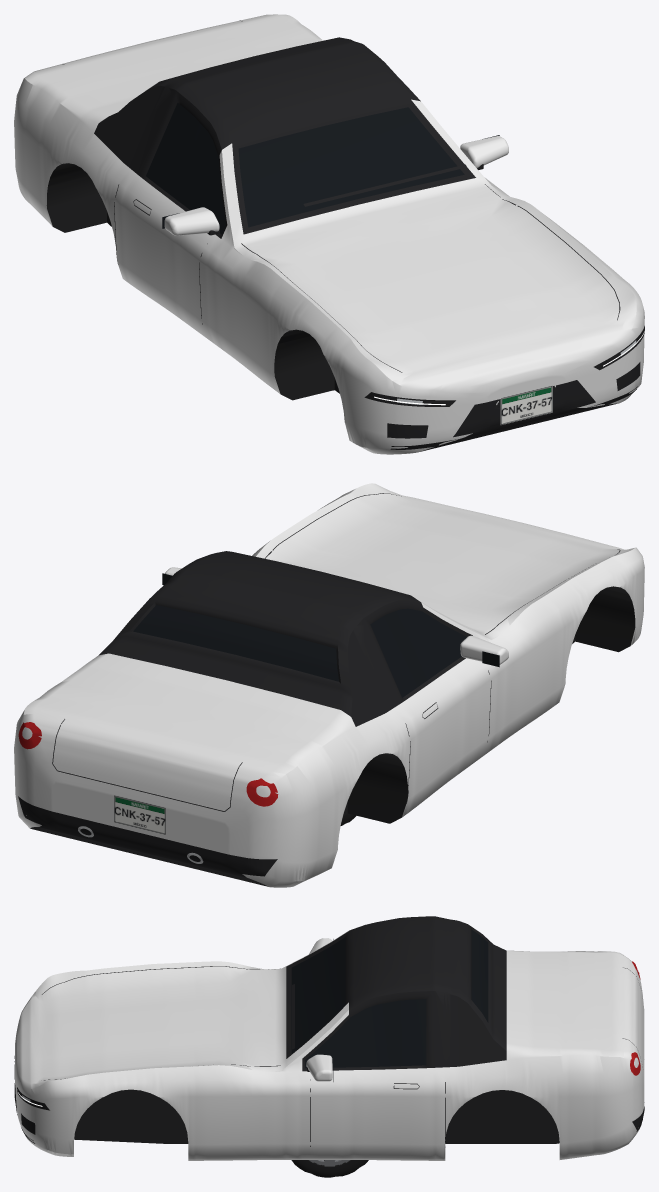
Rendered from mazda-mx-5.glb.
The picture shows the model from 3 angles, top to bottom: view 1: azimuth 30°, elevation 25°; view 2: azimuth 150°, elevation 25°; view 3: azimuth 270°, elevation 25°; orthographic projection. The views are drawn at different scales.
Visible parts, largest first — view 1: body; view 2: body; view 3: body, wheel.
Boxes of the visible parts, x1=… form: body: x1=14, y1=14, x2=644, y2=454; body: x1=14, y1=483, x2=644, y2=887; body: x1=14, y1=916, x2=644, y2=1160; wheel: x1=291, y1=1160, x2=368, y2=1177.
Bounding box in the file's own units: 1.97 × 1.54 × 3.92.
1 material, 1 textured.
